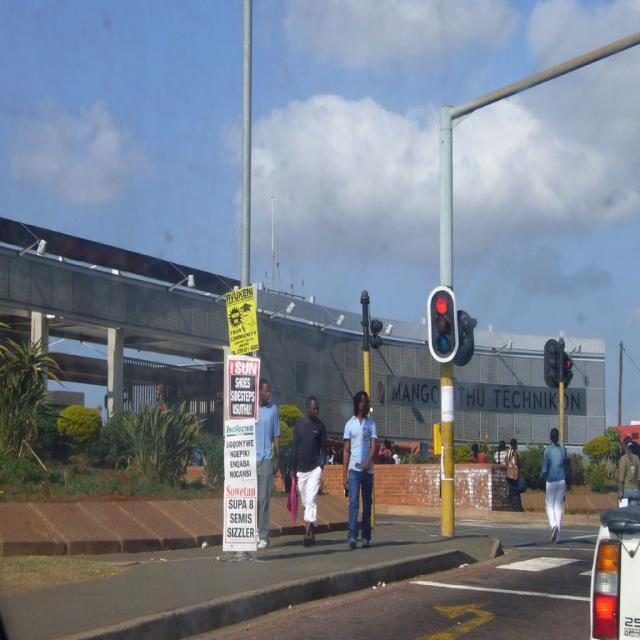traffic light: (435, 295, 453, 353)
